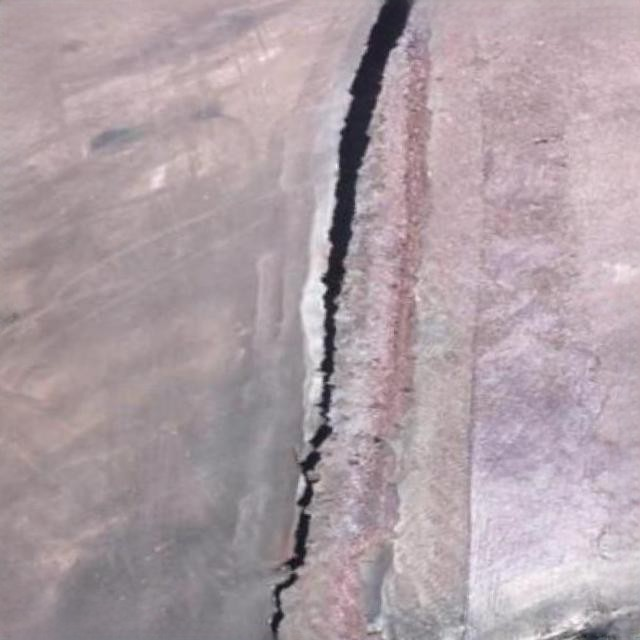Tear: (260, 0, 412, 640)
